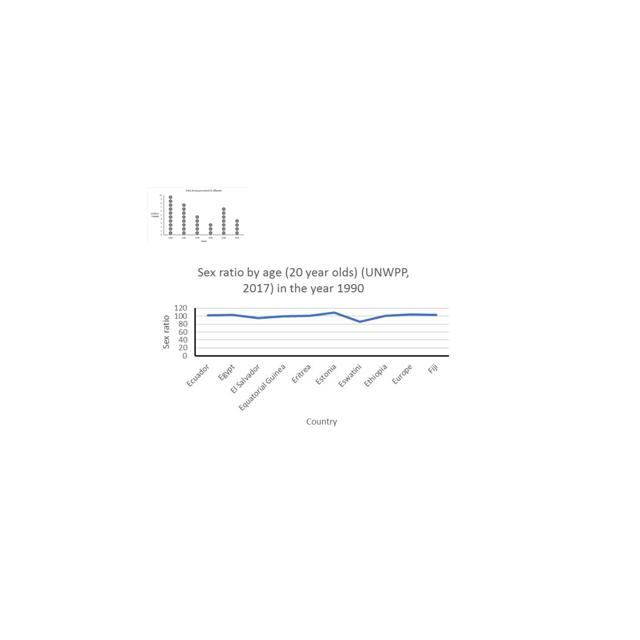Graph: (150, 260, 456, 434), (147, 187, 246, 245)
